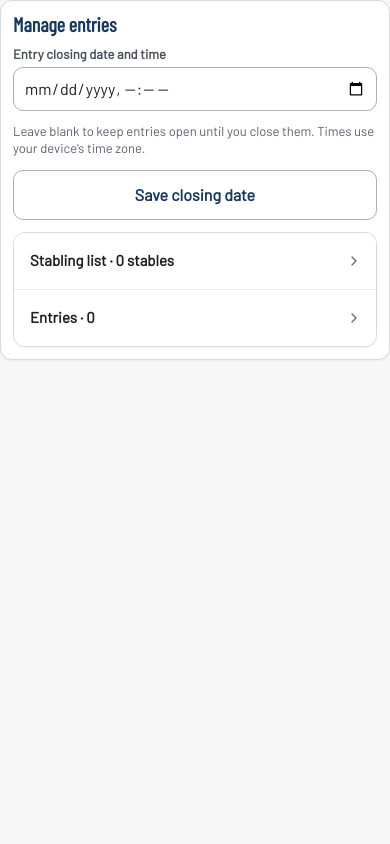
says the closing date is saved in a toast
Click the button "Save closing date": (195, 195) [13,170,377,220]
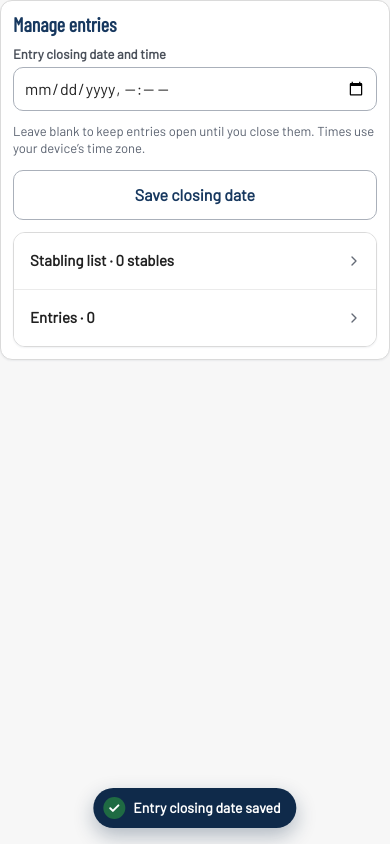
Expected: the message reads "Entry closing date saved", [133,799,281,816]
